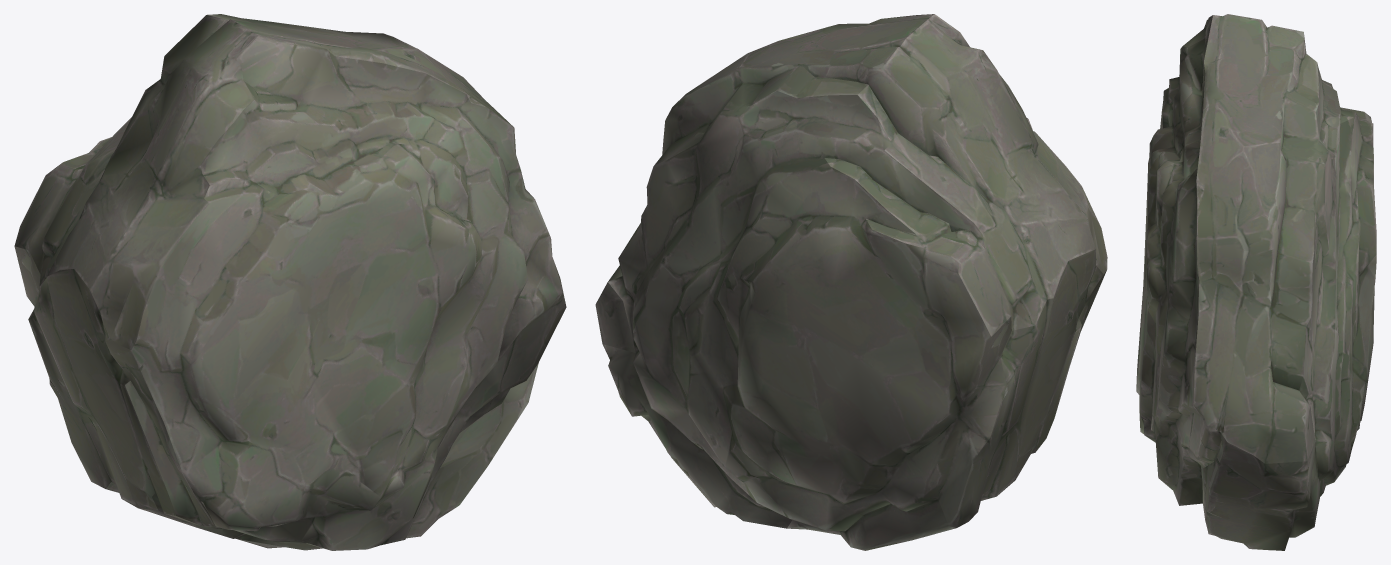
File: Dn_HL_Stairs_Rock_Slab_A.fbx
3 renders of one model, left to right at view 1: azimuth 30°, elevation 25°; view 2: azimuth 150°, elevation 25°; view 3: azimuth 270°, elevation 25°, orthographic. The views are drawn at different scales.
Parts seen in each view (by area): view 1: Dn_HL_Stairs_Rock_Slab_A; view 2: Dn_HL_Stairs_Rock_Slab_A; view 3: Dn_HL_Stairs_Rock_Slab_A.
Part boxes in pixels (left/top/right/bottom): Dn_HL_Stairs_Rock_Slab_A: left=14, top=14, right=566, bottom=550; Dn_HL_Stairs_Rock_Slab_A: left=595, top=14, right=1107, bottom=550; Dn_HL_Stairs_Rock_Slab_A: left=1136, top=14, right=1376, bottom=550.
Size of the model in its own units: 1268 by 1378 by 653.
